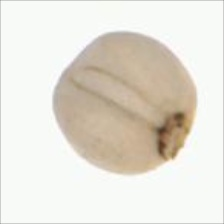L5: (59, 62, 168, 129), (156, 107, 193, 164)
L6: (49, 29, 200, 179)
